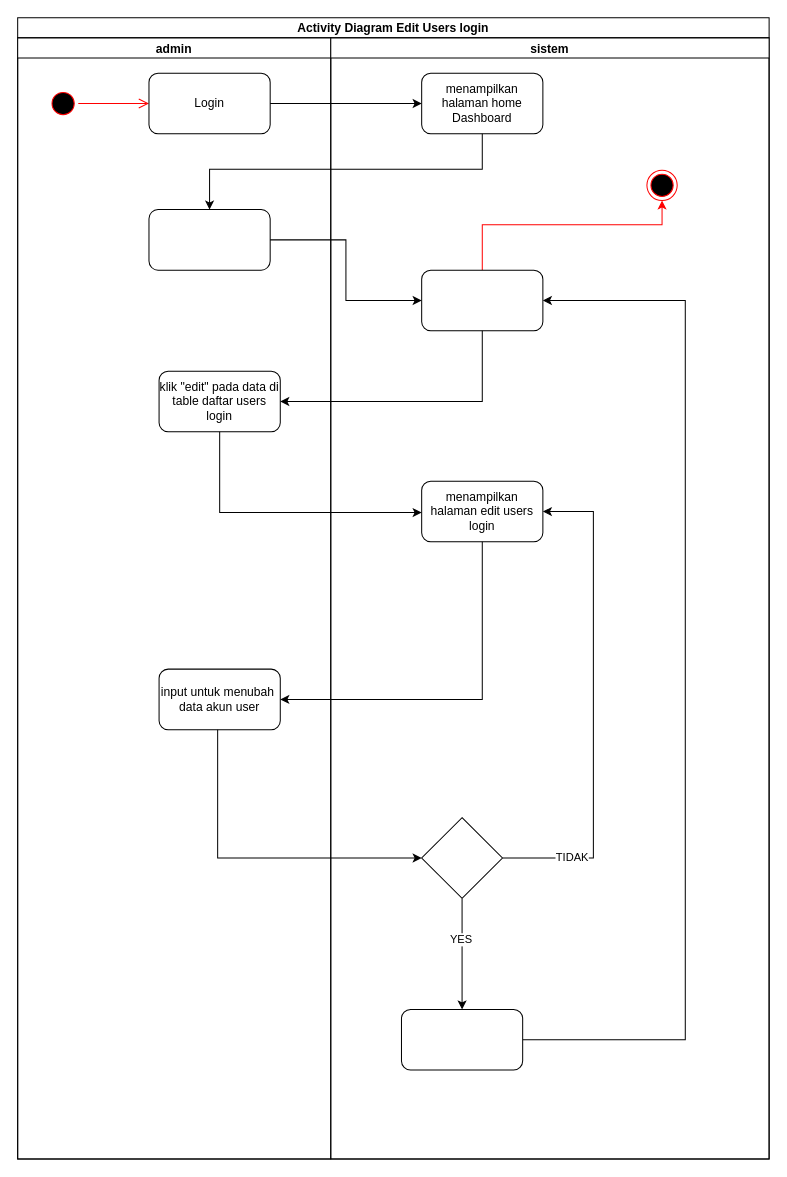
Some shapes in this 787 by 1177 pixel diagram are drawn without their labels. Each missing label, with the centre of its shape:
input benar terisi?: [461,857]
klik menu "Administrator" pilh "Kelola Users": [209,239]
menampilkan halaman data akun users login: [482,300]
mengubah data yang dipilih dari database: [461,1039]
